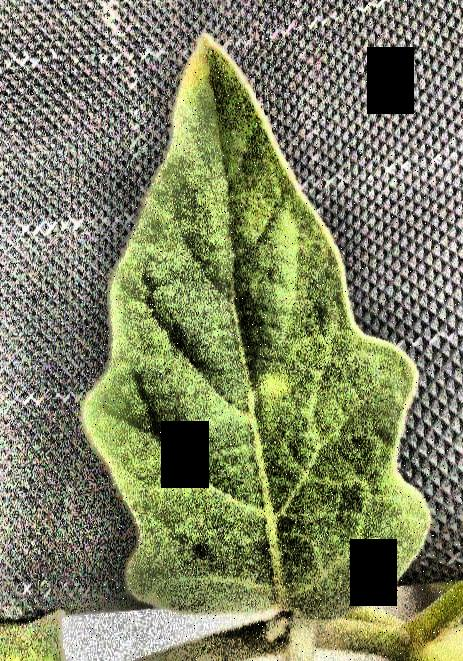HEALTHY: (1, 0, 463, 661)
